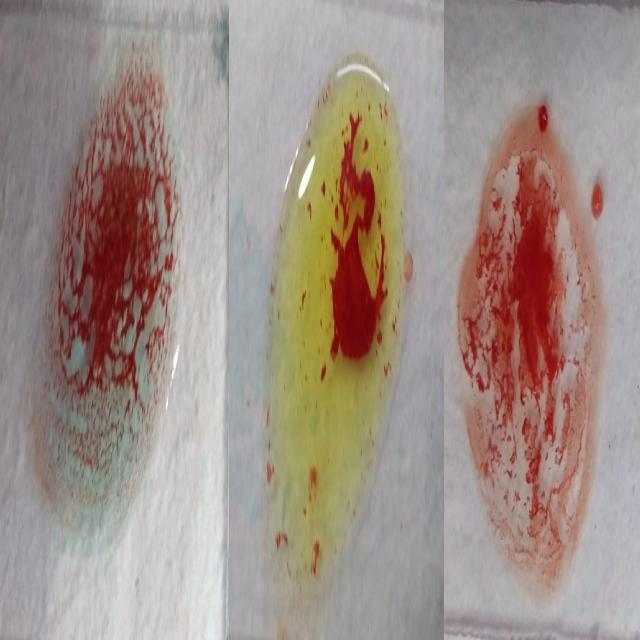A: (39, 59, 180, 556)
B: (277, 52, 398, 563)
D: (458, 109, 602, 580)
